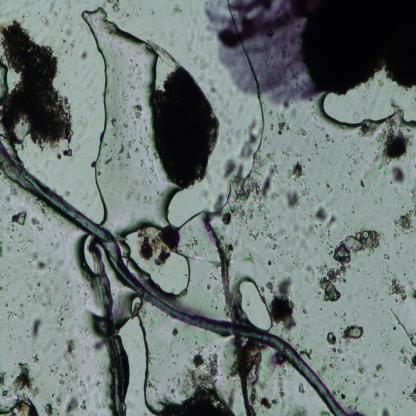Air bubble: (76, 6, 176, 230), (321, 72, 416, 132), (121, 225, 195, 299), (122, 309, 158, 416), (237, 275, 275, 332), (81, 230, 99, 274)
Background material: (144, 38, 219, 188), (0, 21, 76, 161), (154, 384, 237, 416), (224, 173, 270, 223), (179, 344, 224, 395), (330, 226, 382, 265), (376, 120, 415, 163), (312, 262, 349, 303), (308, 205, 340, 242), (270, 295, 298, 337), (390, 307, 416, 349), (238, 117, 262, 159), (242, 339, 262, 386), (52, 293, 76, 331), (138, 223, 160, 262), (0, 395, 40, 416), (12, 361, 36, 395), (14, 230, 36, 263), (223, 156, 247, 186), (248, 386, 278, 410), (382, 275, 407, 303), (6, 323, 25, 355), (56, 371, 73, 405), (35, 283, 60, 306), (393, 206, 416, 231), (162, 223, 180, 253), (257, 152, 277, 178), (286, 162, 307, 184), (346, 396, 368, 416), (60, 339, 78, 363), (64, 393, 83, 414), (278, 275, 297, 295), (342, 324, 364, 341), (211, 191, 228, 212), (279, 234, 294, 257), (144, 372, 157, 398), (277, 367, 287, 399), (380, 328, 392, 353), (284, 183, 296, 208), (156, 250, 172, 268), (55, 148, 77, 161), (247, 227, 266, 241), (267, 354, 284, 369), (372, 362, 386, 380), (270, 186, 288, 200), (347, 146, 365, 160), (288, 255, 302, 273), (398, 346, 411, 365), (12, 211, 27, 227), (390, 167, 402, 187), (362, 120, 376, 137), (276, 121, 291, 136), (144, 195, 160, 209), (228, 360, 239, 380), (31, 320, 42, 340), (401, 386, 416, 400), (31, 217, 44, 232), (293, 403, 308, 416), (340, 182, 352, 198), (93, 336, 104, 353), (46, 403, 60, 416), (46, 362, 59, 376), (300, 345, 313, 359), (409, 191, 416, 217), (318, 361, 329, 377), (5, 308, 17, 322), (84, 96, 98, 108), (0, 265, 11, 280), (7, 183, 19, 196), (1, 385, 13, 398), (40, 13, 52, 26), (266, 231, 279, 243), (186, 235, 197, 249), (0, 369, 8, 387), (29, 354, 41, 366), (108, 0, 120, 12), (327, 331, 337, 345), (396, 240, 404, 257), (280, 144, 292, 155), (296, 126, 307, 138), (324, 132, 335, 144), (29, 386, 40, 398), (277, 112, 288, 123), (134, 104, 142, 119), (380, 406, 392, 416), (357, 363, 365, 378), (301, 323, 311, 335), (378, 162, 388, 174), (343, 374, 351, 388), (174, 2, 182, 16), (49, 0, 57, 14), (326, 183, 334, 197), (302, 187, 311, 199), (341, 218, 350, 230), (227, 242, 235, 255), (297, 381, 305, 394), (350, 200, 358, 213), (126, 137, 136, 147), (11, 292, 21, 302), (208, 270, 218, 280), (120, 90, 128, 102), (392, 228, 400, 240), (410, 354, 416, 370), (348, 170, 356, 182), (349, 309, 358, 319), (65, 27, 74, 37), (245, 254, 254, 264), (63, 189, 72, 199), (327, 375, 335, 386), (81, 118, 88, 130), (69, 42, 75, 56), (80, 400, 88, 410), (81, 49, 88, 60), (132, 145, 139, 156), (83, 294, 90, 305), (80, 379, 86, 391), (314, 142, 320, 154), (168, 38, 176, 47), (23, 10, 32, 18), (64, 278, 70, 290), (26, 294, 36, 301), (340, 312, 347, 322), (374, 389, 380, 400), (65, 0, 71, 11), (18, 312, 26, 320), (131, 64, 139, 72), (294, 150, 302, 158), (38, 260, 46, 268), (0, 240, 4, 256), (382, 251, 390, 259), (70, 376, 78, 384), (110, 117, 116, 127), (171, 328, 178, 336), (124, 152, 131, 160), (321, 409, 329, 416), (306, 266, 313, 274), (412, 286, 416, 300), (0, 287, 5, 298), (129, 185, 135, 194), (58, 217, 64, 226), (314, 194, 320, 203), (408, 278, 414, 287), (360, 178, 365, 188), (130, 84, 136, 92), (64, 14, 70, 22), (265, 138, 271, 146), (86, 374, 92, 382), (328, 362, 334, 370), (140, 159, 146, 167), (6, 280, 14, 286), (264, 224, 270, 232), (6, 243, 11, 252), (332, 388, 337, 397), (304, 309, 309, 318), (119, 144, 123, 155), (126, 13, 132, 20), (63, 48, 69, 55), (352, 158, 358, 165), (205, 283, 211, 290), (96, 380, 101, 388), (24, 272, 29, 280), (326, 251, 334, 256), (105, 158, 111, 164), (138, 71, 142, 80), (127, 0, 133, 6), (336, 388, 342, 394), (72, 367, 77, 374), (307, 156, 312, 163), (337, 348, 342, 355), (270, 122, 274, 130), (154, 151, 158, 159), (66, 412, 74, 416), (140, 28, 144, 36), (6, 194, 10, 202), (334, 310, 338, 318), (333, 355, 339, 360), (143, 411, 149, 416), (341, 394, 346, 400), (332, 347, 337, 353), (341, 356, 346, 362), (316, 181, 321, 187), (42, 209, 47, 215), (320, 333, 326, 338), (73, 70, 78, 76), (268, 261, 274, 266), (144, 144, 148, 151), (124, 122, 128, 129), (122, 9, 126, 16), (139, 138, 143, 145), (268, 109, 272, 116), (134, 9, 138, 16), (84, 325, 88, 332), (6, 227, 10, 234), (354, 349, 358, 356), (205, 192, 210, 197), (116, 155, 121, 160), (113, 133, 118, 138), (273, 244, 278, 249), (392, 325, 397, 330), (34, 374, 39, 379), (8, 220, 12, 226), (330, 356, 334, 362), (62, 38, 66, 44), (65, 235, 68, 243), (68, 365, 72, 370), (76, 56, 80, 61), (10, 374, 14, 379), (57, 84, 62, 88), (382, 392, 387, 396), (29, 287, 33, 292), (97, 171, 101, 176), (48, 267, 52, 272), (159, 60, 164, 64), (76, 291, 80, 296), (113, 66, 116, 72), (6, 302, 9, 308), (20, 303, 23, 309), (366, 296, 372, 299), (112, 10, 115, 16), (103, 143, 107, 147), (144, 126, 148, 130), (82, 358, 84, 366), (8, 240, 12, 244), (150, 33, 154, 37), (300, 336, 304, 340), (27, 335, 30, 340), (403, 271, 406, 276), (37, 282, 40, 287), (395, 405, 397, 412), (129, 58, 133, 61), (352, 382, 356, 385), (216, 306, 219, 310), (33, 349, 36, 353), (52, 394, 55, 398), (54, 342, 57, 346), (10, 234, 12, 240), (50, 242, 53, 246), (320, 307, 323, 311), (60, 231, 63, 235), (375, 200, 378, 204), (64, 81, 66, 86), (0, 218, 2, 223), (54, 234, 57, 237), (122, 22, 124, 26), (382, 298, 384, 302), (27, 328, 29, 332), (14, 362, 17, 364), (48, 218, 50, 221), (313, 340, 316, 342), (12, 229, 14, 232), (74, 268, 76, 271), (36, 238, 38, 240)
Cellulose filter fibre: (208, 219, 252, 416), (90, 240, 132, 416)
Microfibre: (0, 156, 346, 416)
Pen: (203, 0, 325, 108)
